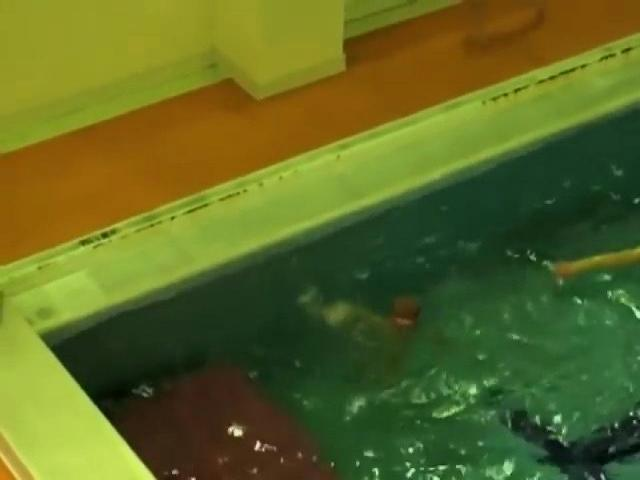drowning: (328, 278, 428, 352)
